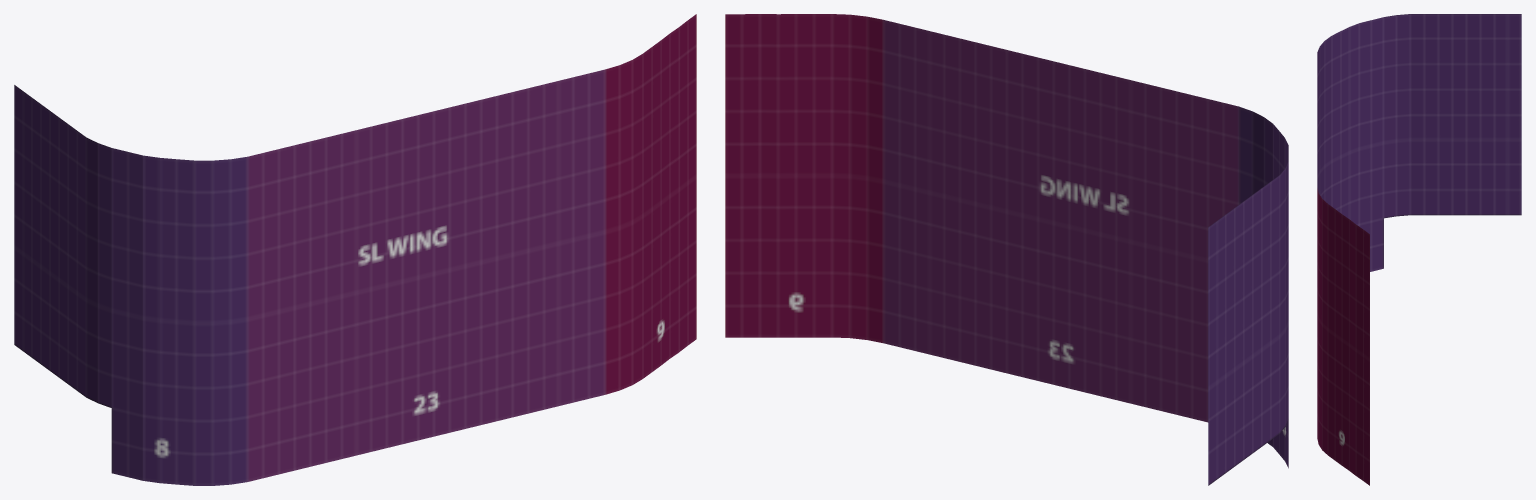
File: ANYMA_Coachella_Stage_v008_LED_SL_WING.glb
3 views of the same model, side by side, from view 1: azimuth 30°, elevation 25°; view 2: azimuth 150°, elevation 25°; view 3: azimuth 270°, elevation 25° (orthographic). The views are drawn at different scales.
Visible parts, largest first — view 1: LED_SL_WING; view 2: LED_SL_WING; view 3: LED_SL_WING.
Boxes of the visible parts, x1=… form: LED_SL_WING: x1=14, y1=14, x2=696, y2=485; LED_SL_WING: x1=725, y1=14, x2=1288, y2=485; LED_SL_WING: x1=1317, y1=14, x2=1521, y2=485.
Size of the model in its own units: 22.54 by 12 by 8.83.
Materials: 1 (1 with a texture image).
